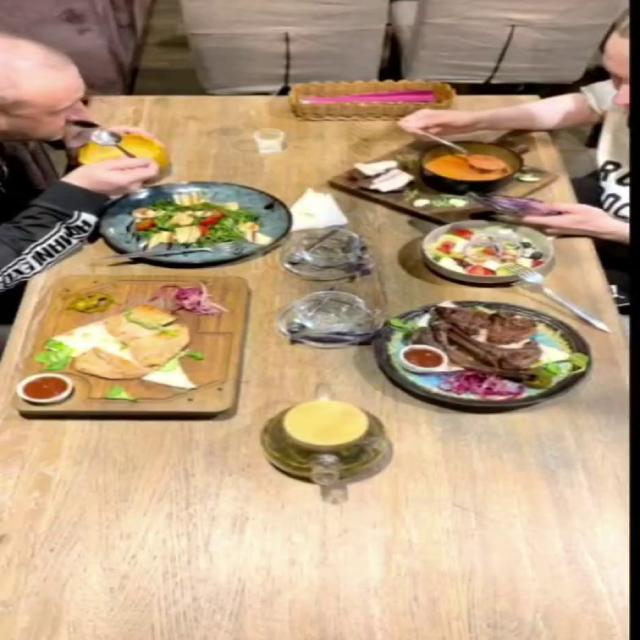alcohol: (240, 114, 304, 160)
meat: (371, 300, 594, 408)
salat: (97, 182, 290, 264), (420, 219, 556, 284)
soup: (326, 137, 562, 224), (78, 133, 170, 172)
tea: (282, 398, 369, 446)
